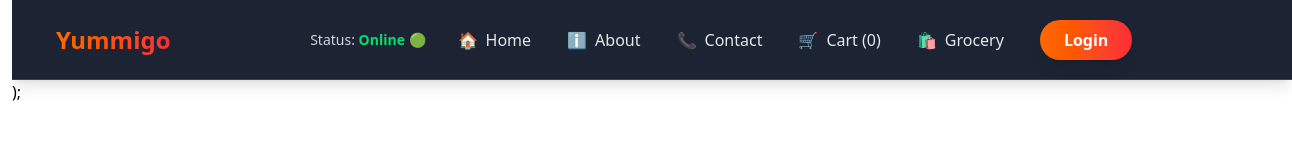
Test: Should change Login Button TO logout when click
Click the button "Login": (1086,40) [1040, 20, 1132, 60]
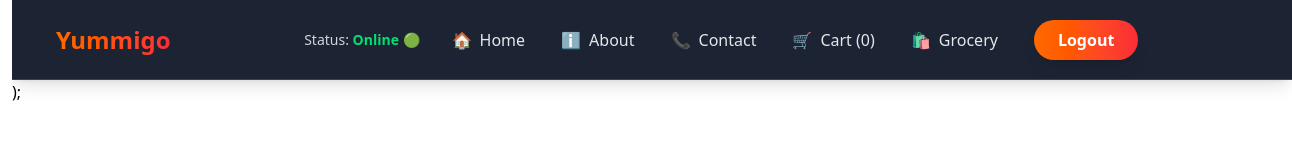
expect the button "Logout" is shown: met, box [1034, 20, 1138, 60]
